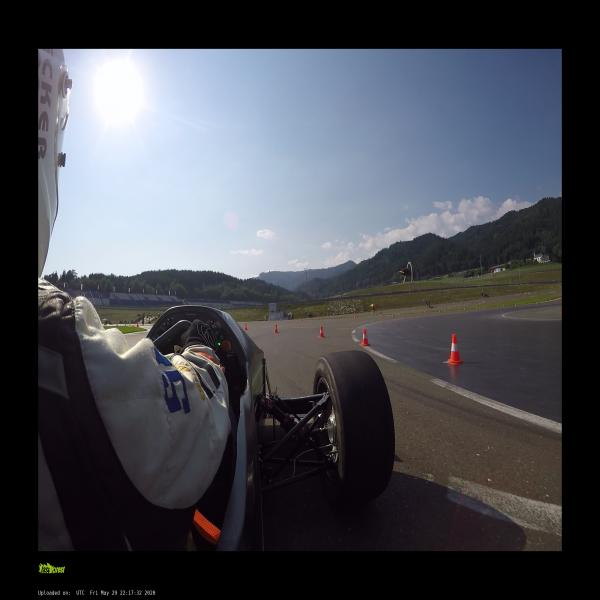orange_cone: (448, 334, 462, 364), (361, 328, 370, 346), (318, 326, 325, 337), (274, 324, 278, 333), (244, 323, 247, 330), (137, 322, 138, 327)
